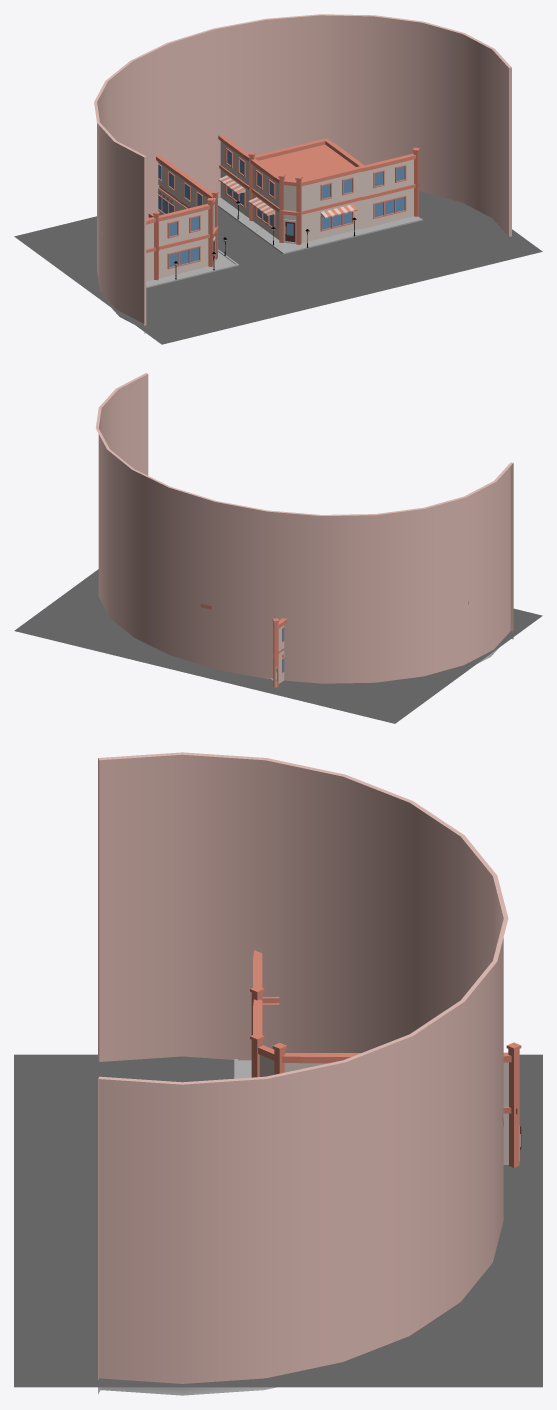
The model's file is IntroEnv.fbx.
3 renders of one model, top to bottom at view 1: azimuth 30°, elevation 25°; view 2: azimuth 150°, elevation 25°; view 3: azimuth 270°, elevation 25°, orthographic. The views are drawn at different scales.
Visible parts, largest first — view 1: Cylinder, Ground, Building2, Building1; view 2: Cylinder, Ground, Building1; view 3: Cylinder, Ground, Building1.
Boxes of the visible parts, x1,y1,x2,y2 form: Cylinder: (94, 14, 511, 333); Ground: (14, 191, 542, 344); Building2: (218, 135, 422, 254); Building1: (102, 155, 238, 293); Cylinder: (96, 373, 513, 683); Ground: (14, 569, 542, 723); Building1: (270, 601, 468, 687); Cylinder: (98, 752, 508, 1395); Ground: (14, 1054, 542, 1387); Building1: (234, 950, 521, 1167).
Bounding box in the file's own units: 11183 × 4943 × 7505.
